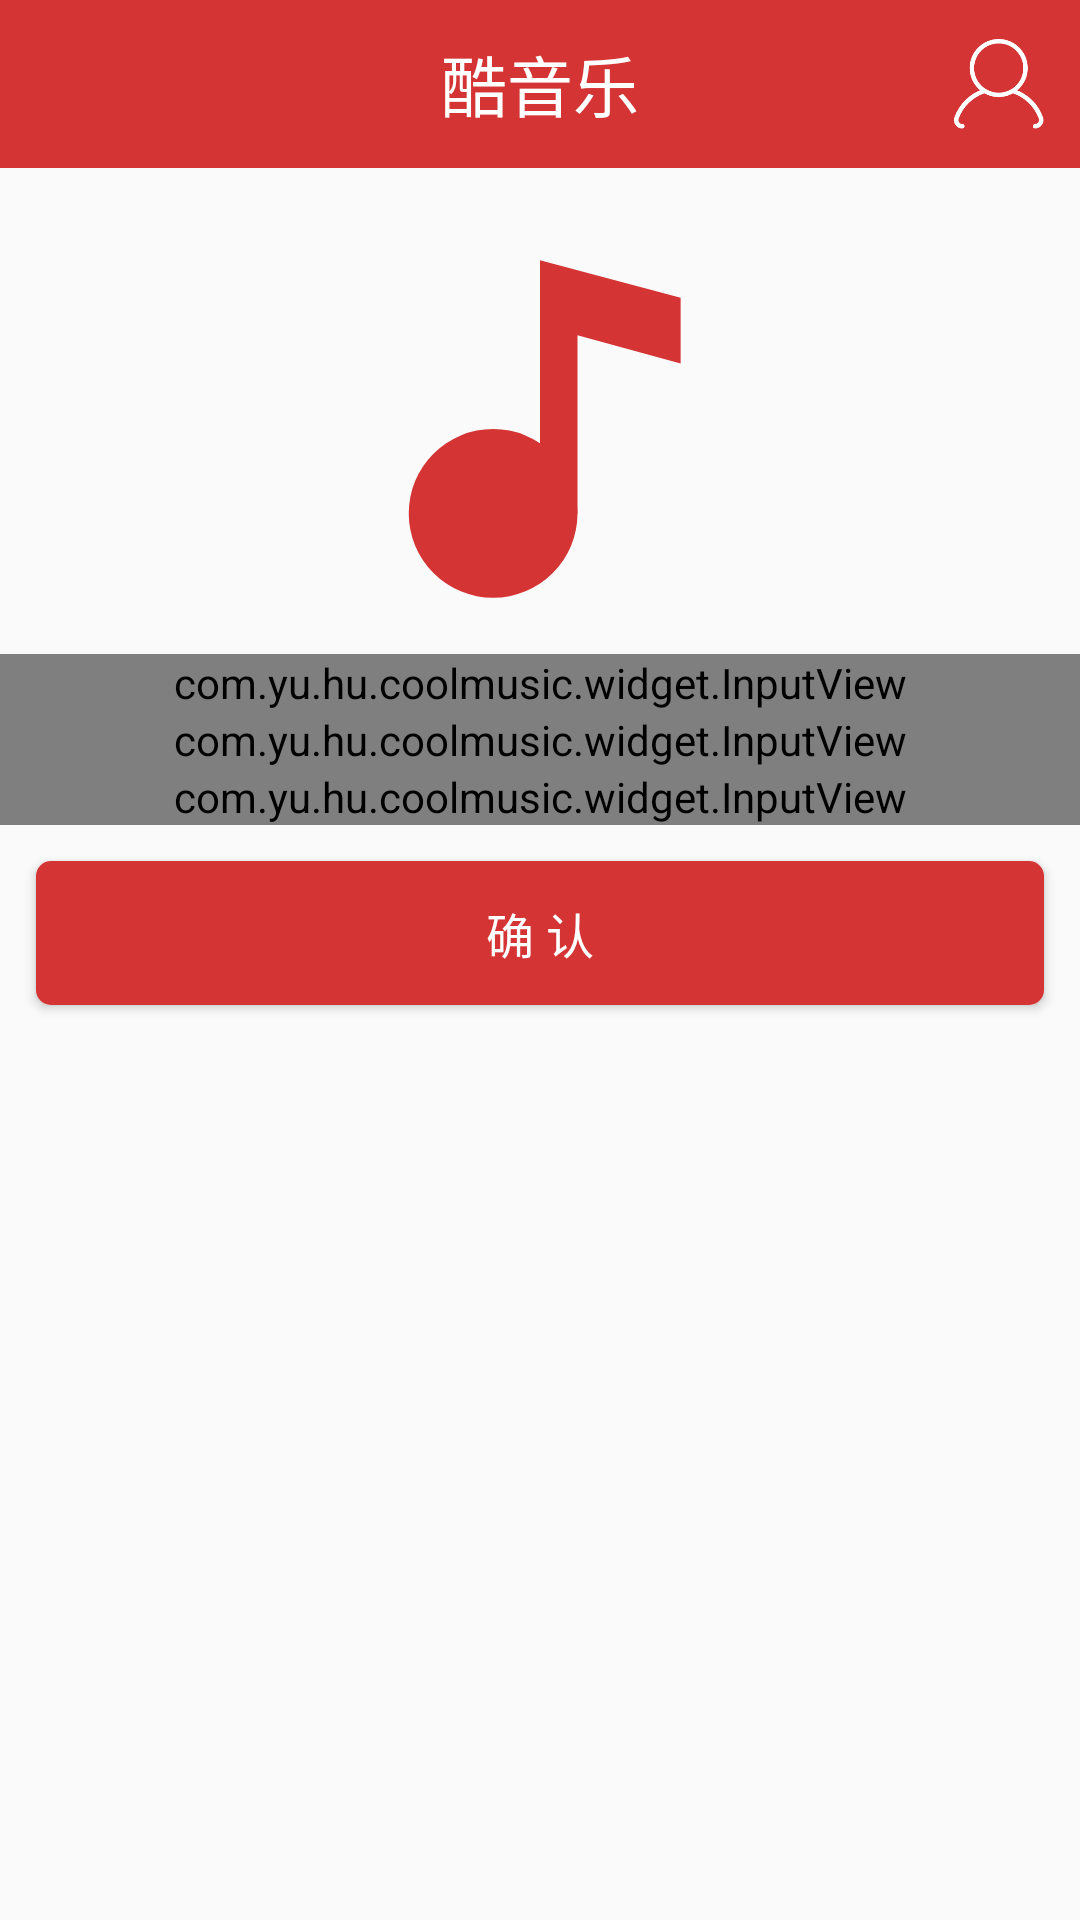

Icon bounding boxes for this 1080w x 1920h phone screenshot, format (x1, y1, x2, y2):
personal: (954, 39, 1044, 129)
